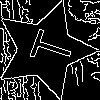T: (20, 24, 76, 69)
